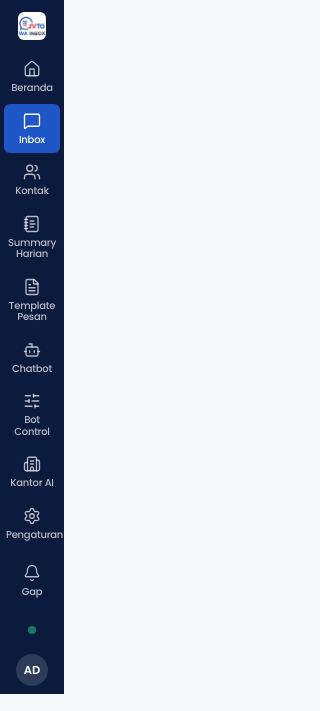
Scenario: AppRail › stays put and reports the failure when logout does not succeed
Click the button with aria-label "Akun Admin Demo": (32, 670) top-left (16, 654), bottom-right (48, 686)
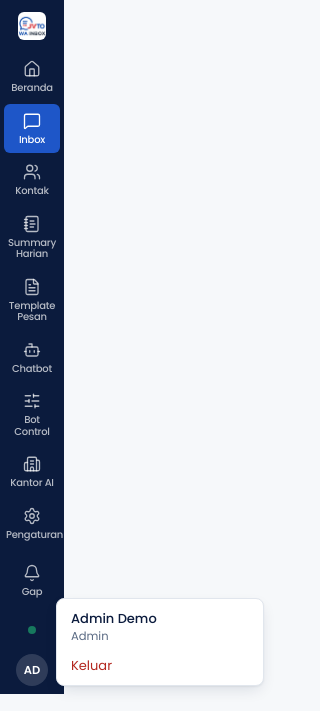
Click the menu item "Keluar": (160, 665) top-left (61, 650), bottom-right (259, 680)
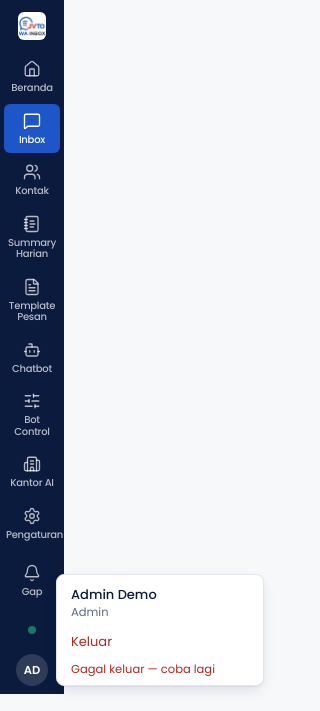
Expected: the text "Gagal keluar — coba lagi" is shown, top-left (71, 660), bottom-right (215, 676)
